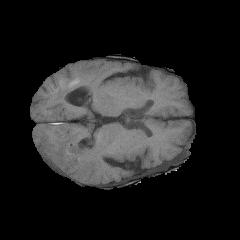glioma: (38, 80, 108, 177)
